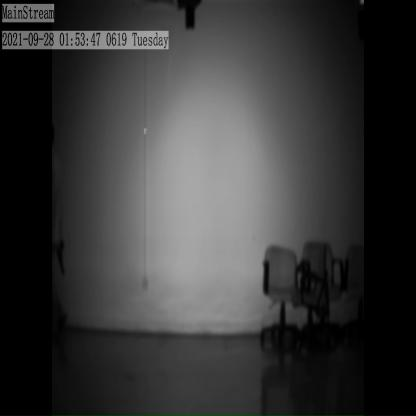weapon: (54, 233, 68, 280)
